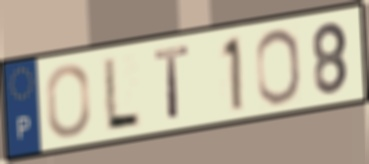1: (219, 34, 246, 115)
8: (310, 19, 351, 98)
L: (101, 54, 143, 130)
O: (253, 26, 303, 107), (44, 61, 92, 140)
T: (152, 43, 192, 122)
